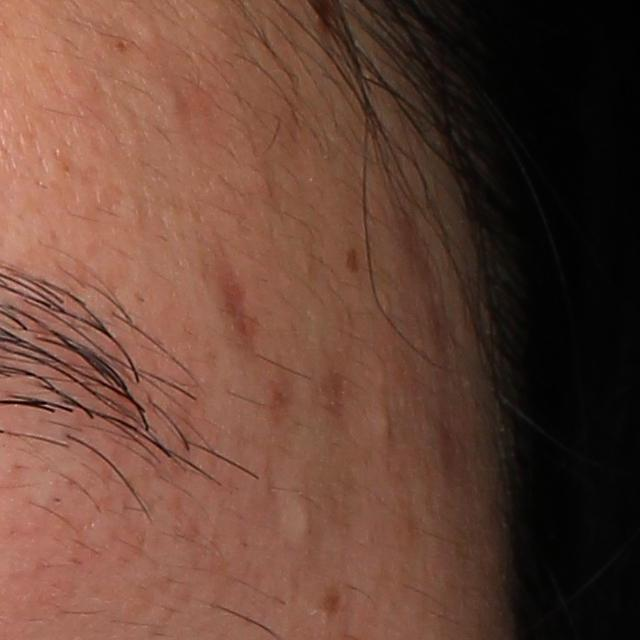atrophic_scar: (207, 242, 265, 351)
comedo: (278, 481, 329, 556), (157, 85, 190, 114), (378, 410, 394, 438)
